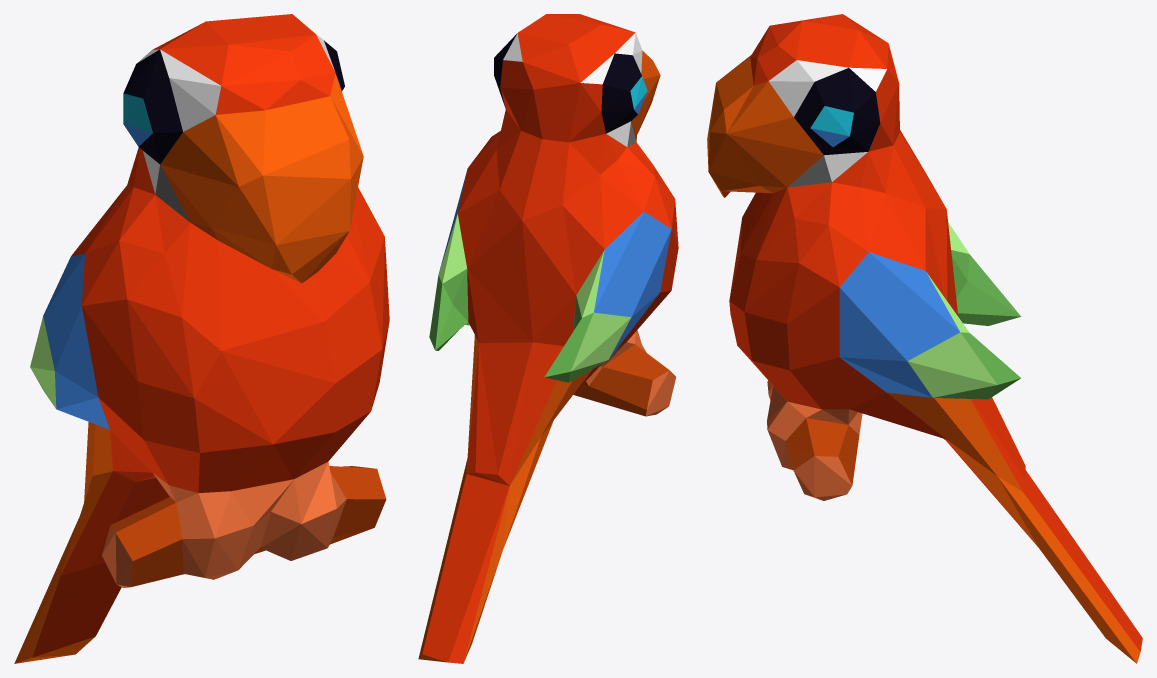
The picture shows the model from 3 angles, left to right: view 1: azimuth 30°, elevation 25°; view 2: azimuth 150°, elevation 25°; view 3: azimuth 270°, elevation 25°; orthographic projection. The views are drawn at different scales.
Parts seen in each view (by area): view 1: Perrot; view 2: Perrot; view 3: Perrot.
Boxes of the visible parts, x1=… form: Perrot: x1=14, y1=14, x2=389, y2=663; Perrot: x1=418, y1=14, x2=678, y2=663; Perrot: x1=707, y1=14, x2=1142, y2=663.
Size of the model in its own units: 0.1802 by 0.4488 by 0.2853.
Materials: 1 (1 with a texture image).
